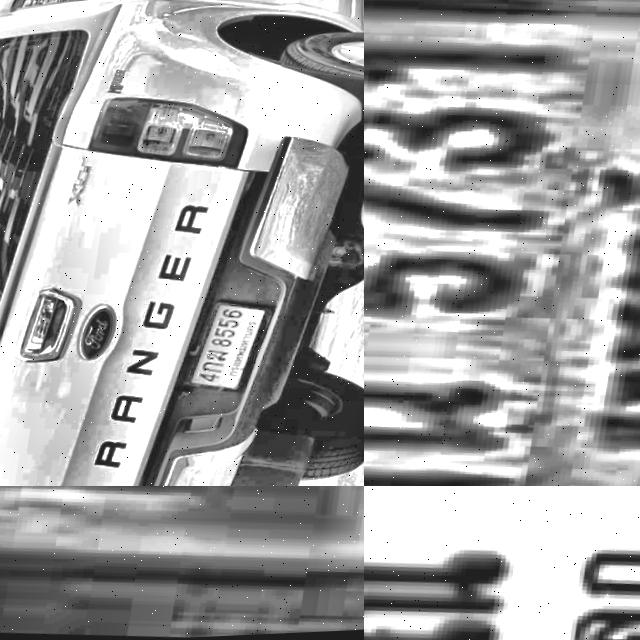license-plate: (364, 0, 640, 486), (364, 486, 640, 640), (0, 486, 364, 594), (193, 301, 280, 400)
